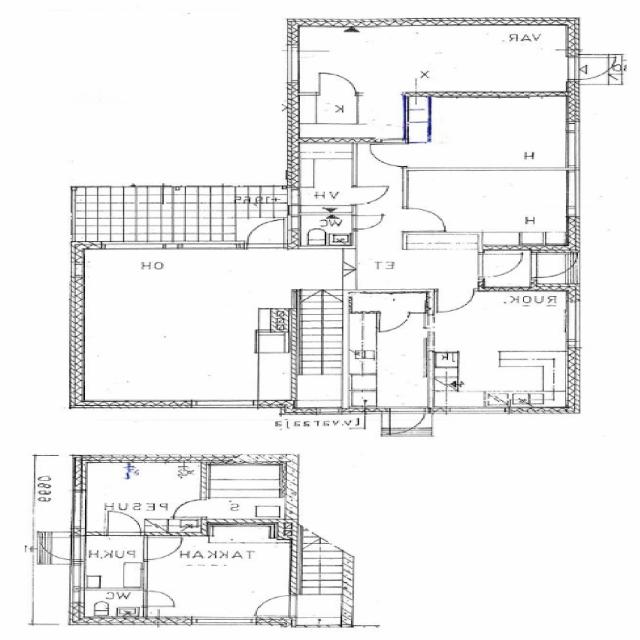door: (568, 57, 620, 81), (530, 254, 578, 278), (32, 538, 84, 560), (247, 219, 284, 249), (388, 407, 425, 436), (143, 538, 186, 560), (403, 209, 446, 231), (479, 255, 521, 277), (366, 145, 408, 167), (438, 287, 473, 313), (319, 70, 355, 94), (258, 596, 298, 616), (107, 512, 141, 535), (171, 499, 210, 517), (350, 187, 384, 204), (380, 312, 410, 331), (143, 592, 174, 607), (351, 216, 381, 231)
